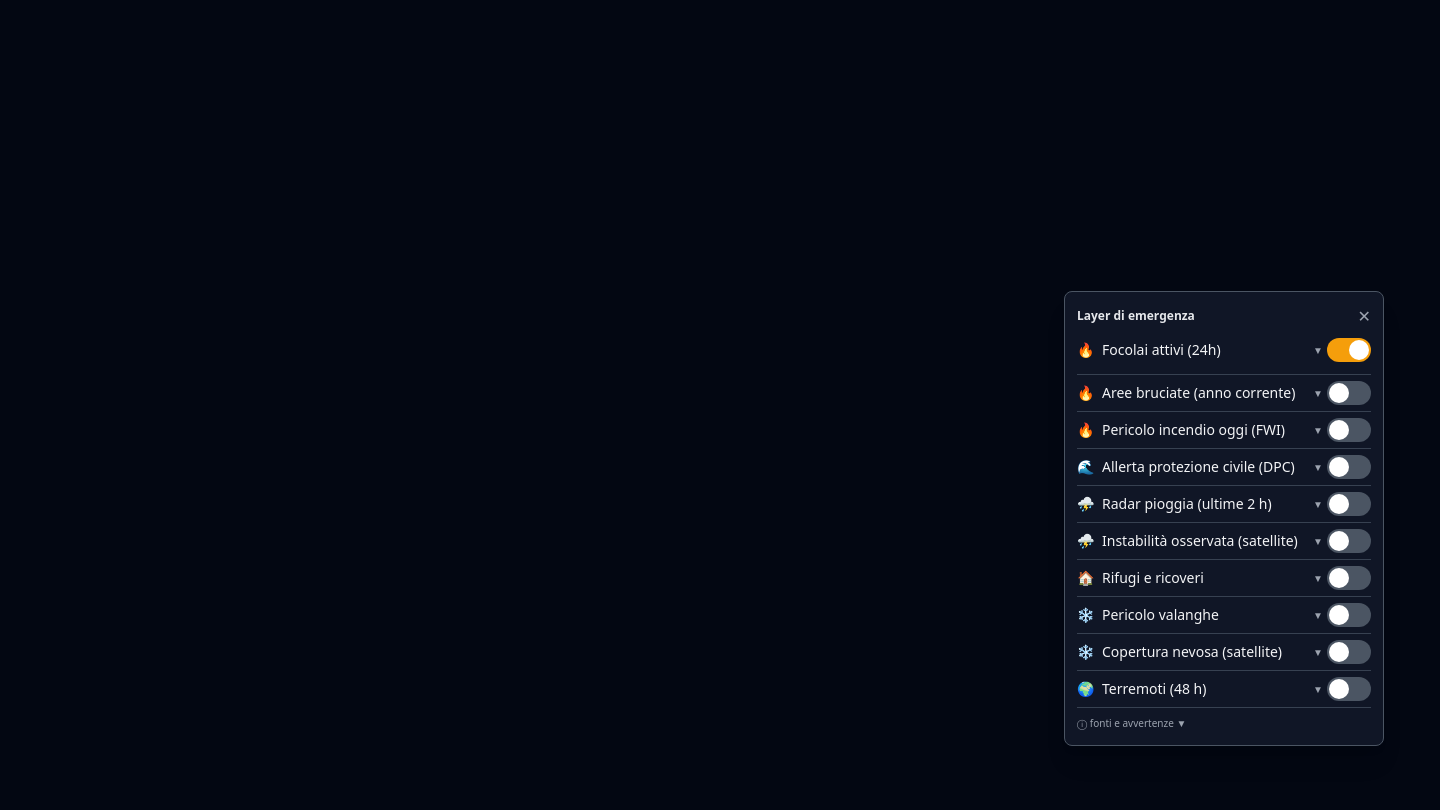
Test: pannello layer compatto › avvertenza e fonti sono richiudibili
Click the button "ⓘ fonti e avvertenze ▼" at (1127, 723), box [1077,716,1371,731]
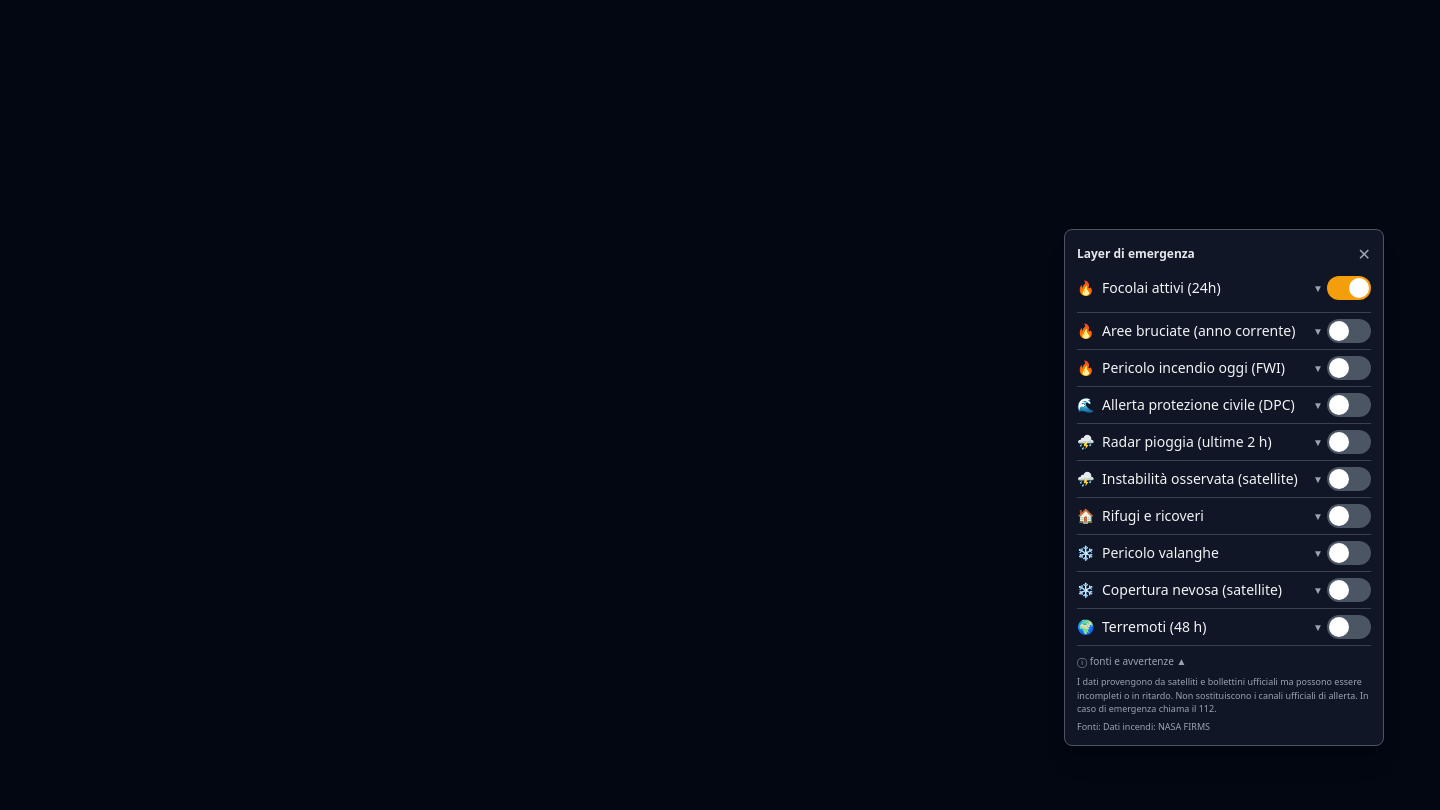
Expected: the text "chiama il 112" is shown, [1077,675,1369,715]
Expected: the text "Fonti: Dati incendi: NASA FIRMS" is shown, [1077,720,1210,732]
